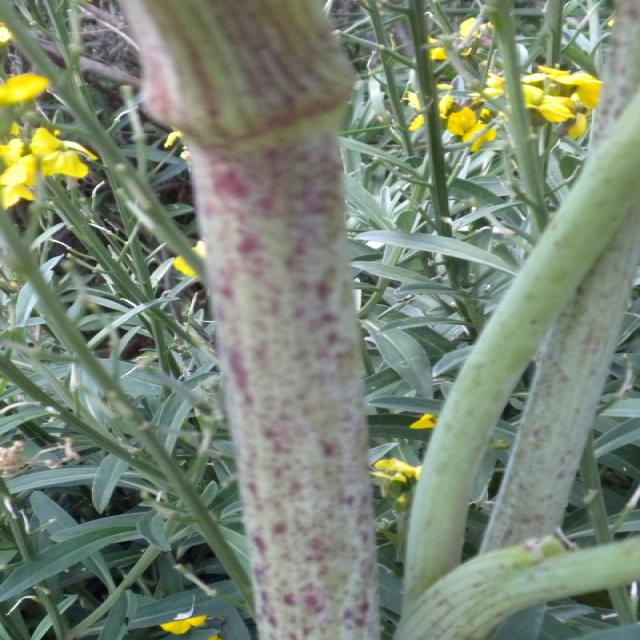Poisonous-Hemlock: (126, 0, 429, 640)
